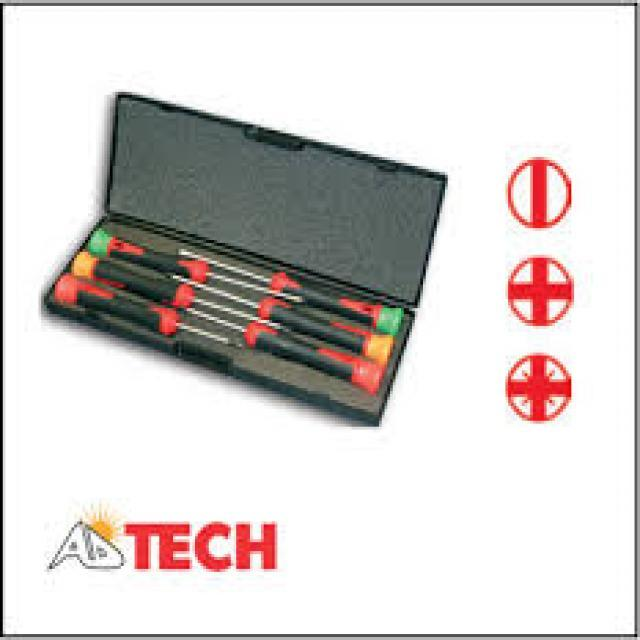screwdriver: (162, 266, 396, 374), (177, 244, 408, 340), (70, 246, 298, 338), (184, 305, 390, 394), (90, 226, 306, 304), (52, 270, 250, 352)
